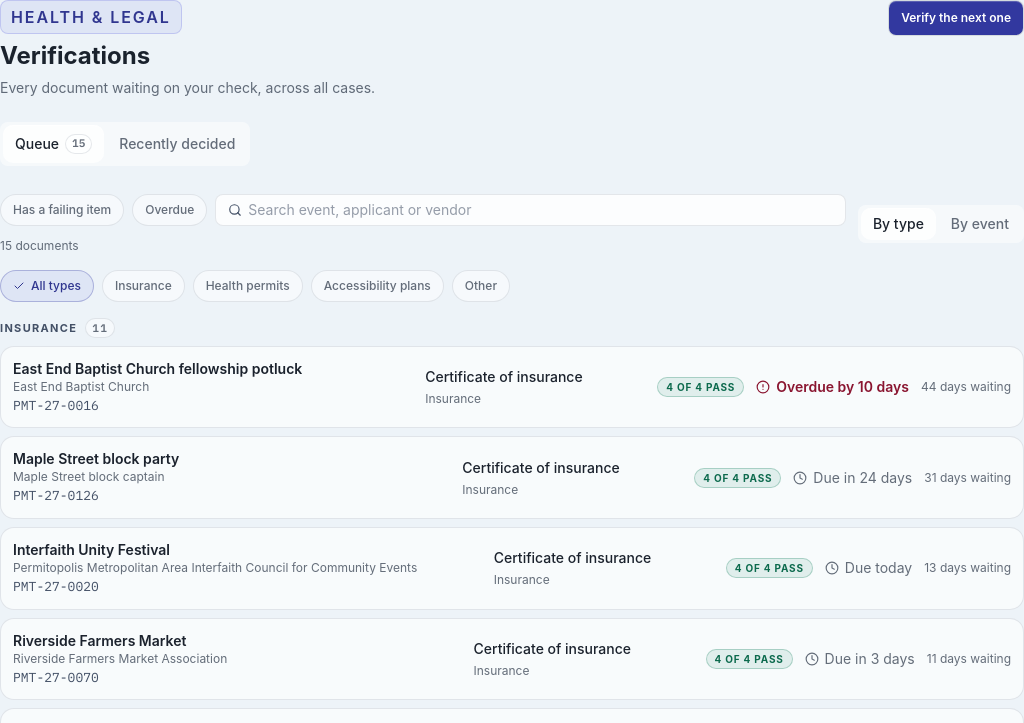
Test: counts, dates and small confirmations › a filter's result count is a status that changes with the filter
Type "zzzz" into the search field. click: (544, 210)
box: x1=242 y1=194 x2=845 y2=226
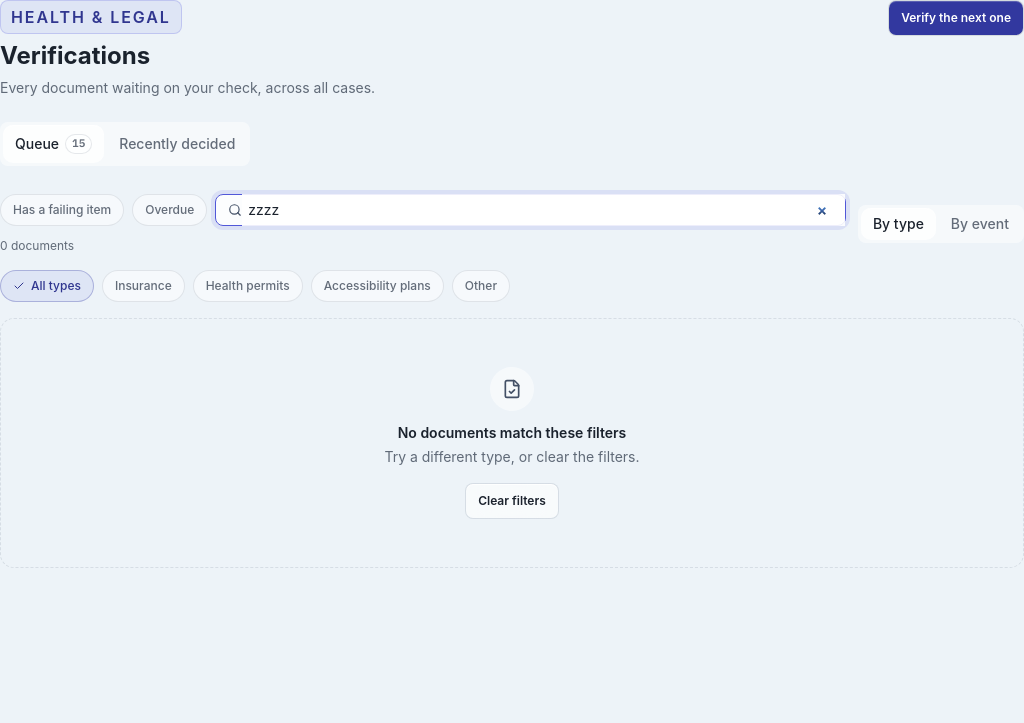
Now the message reads "0 documents", box x1=0 y1=238 x2=74 y2=253
